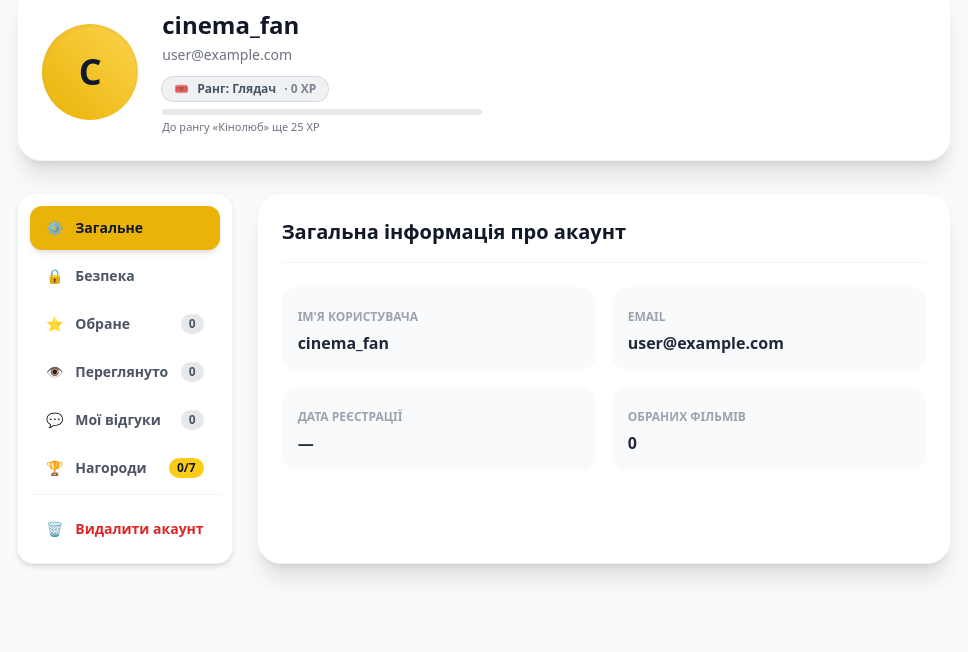
UserProfile account settings › changes the password on the server
The width and height of the screenshot is (968, 652).
Click the button "🔒 Безпека".
click(125, 276)  # box [30,254,220,298]
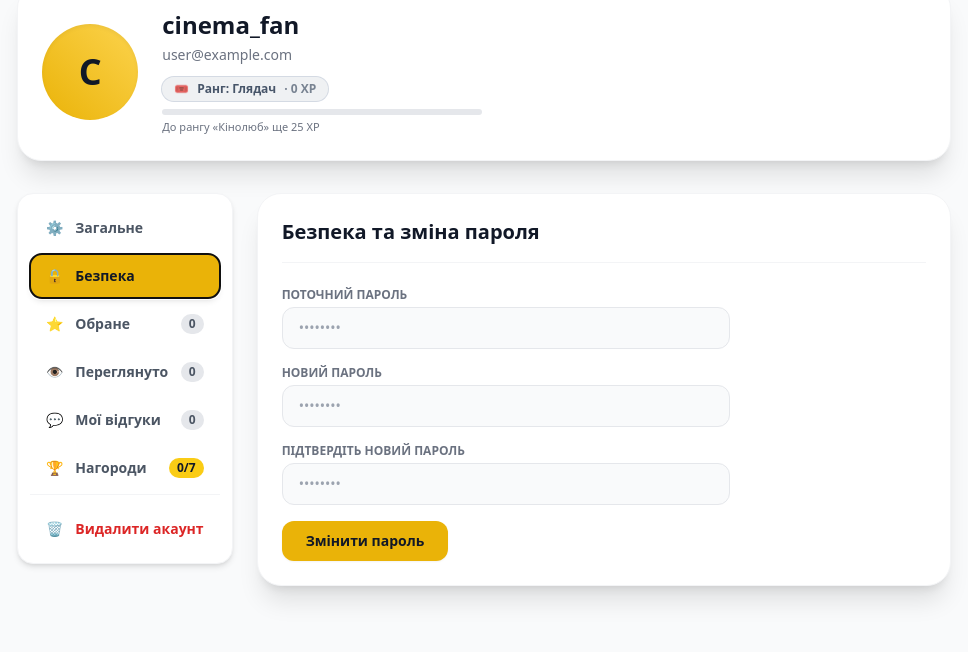
Type "OldPass123" into the password field labelled "Поточний пароль".
click(506, 328); type("OldPass123")  # box [282,306,730,348]
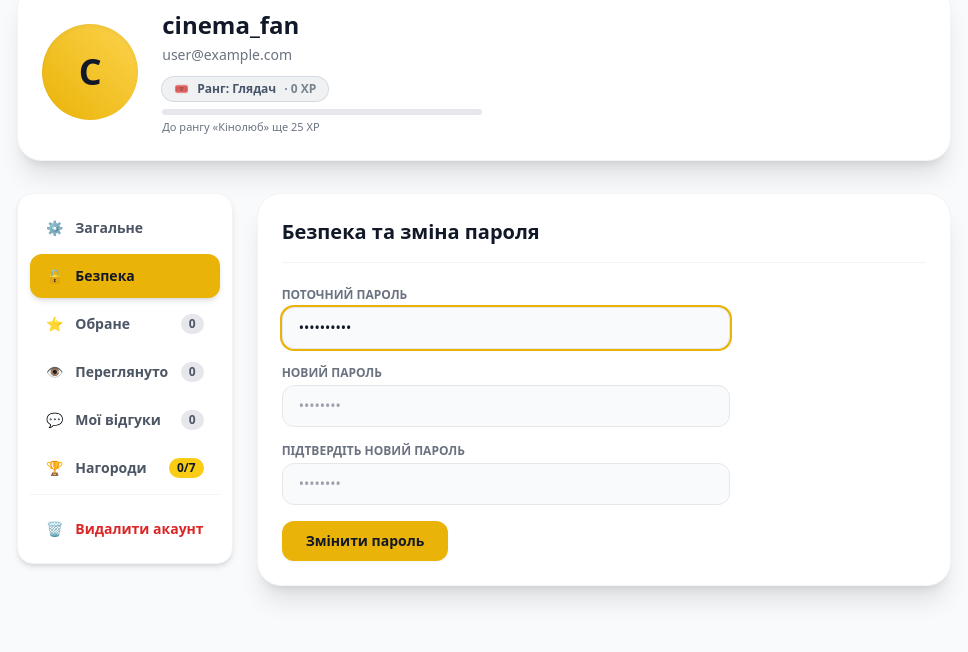
Type "NewPass456" into the password field labelled "Новий пароль".
click(506, 406); type("NewPass456")  # box [282,384,730,426]
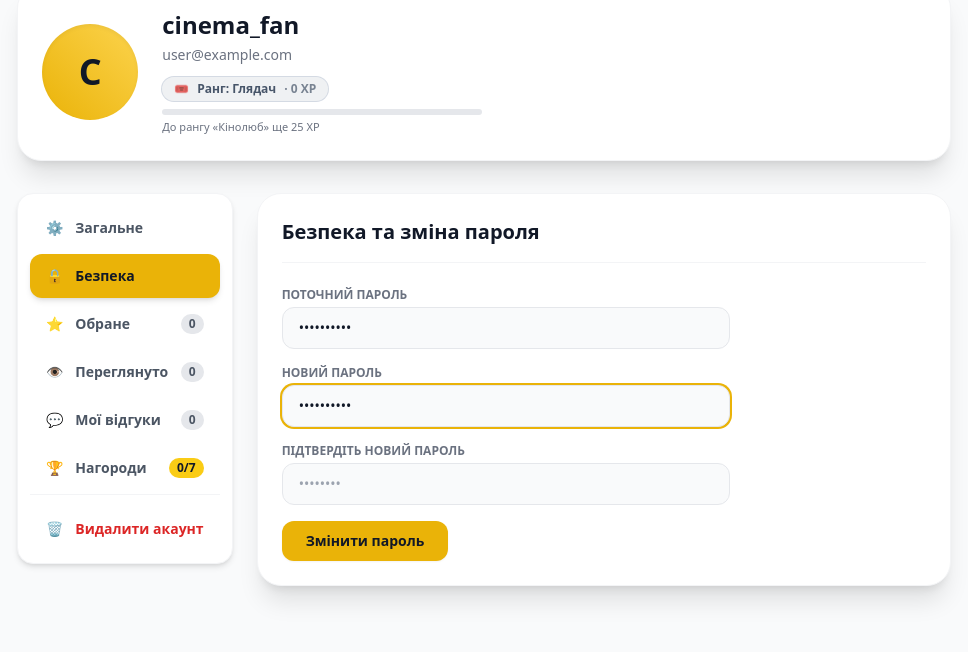
Type "NewPass456" into the password field labelled "Підтвердіть новий пароль".
click(506, 484); type("NewPass456")  # box [282,462,730,504]
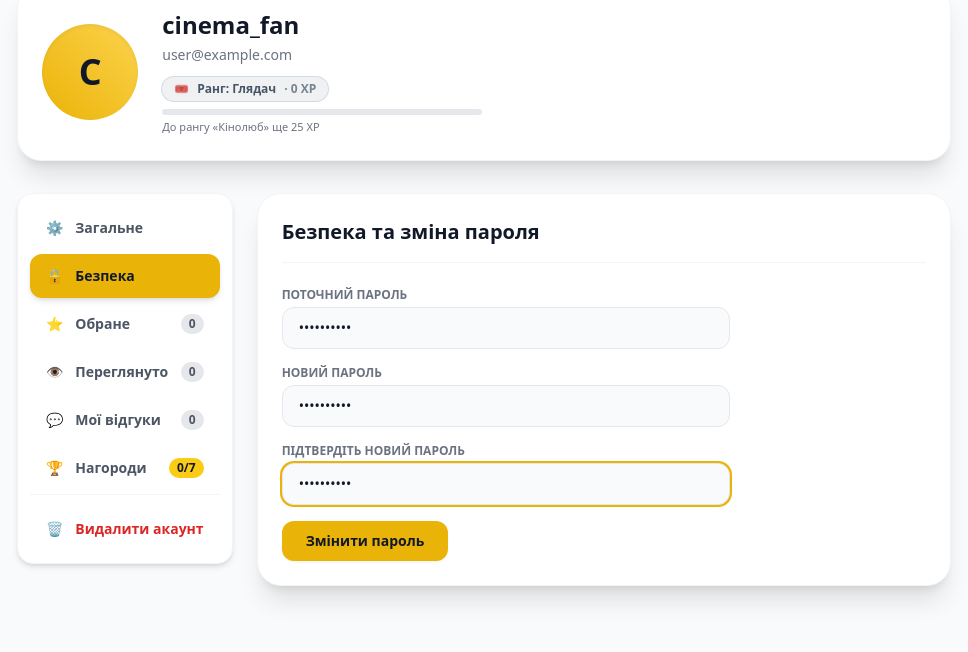
Click the button "Змінити пароль".
click(365, 540)  # box [282,520,448,560]
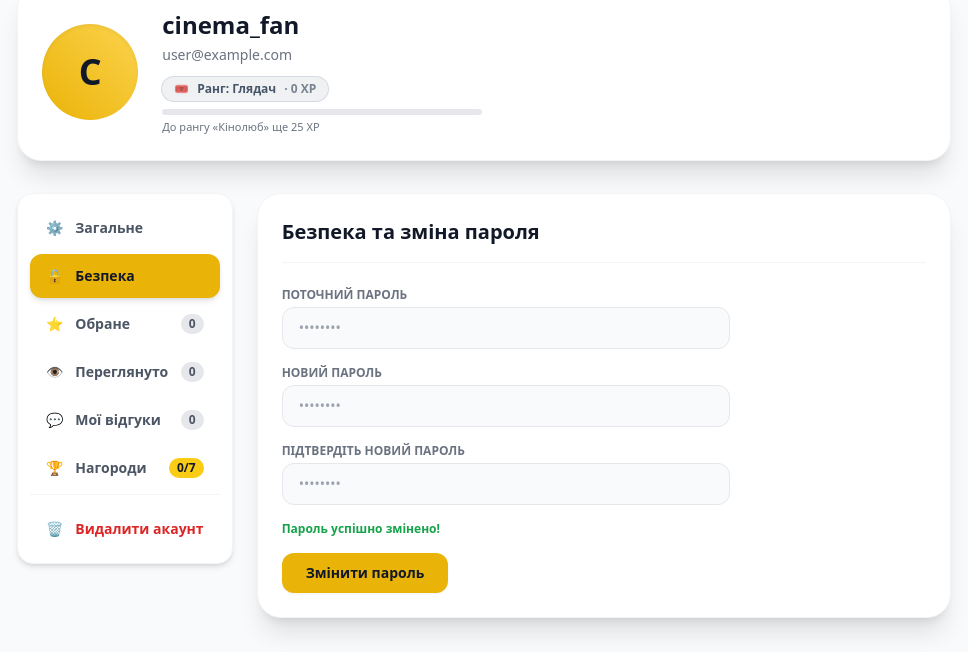
Expected: the message reads "Пароль успішно змінено!", [282,520,440,536]
